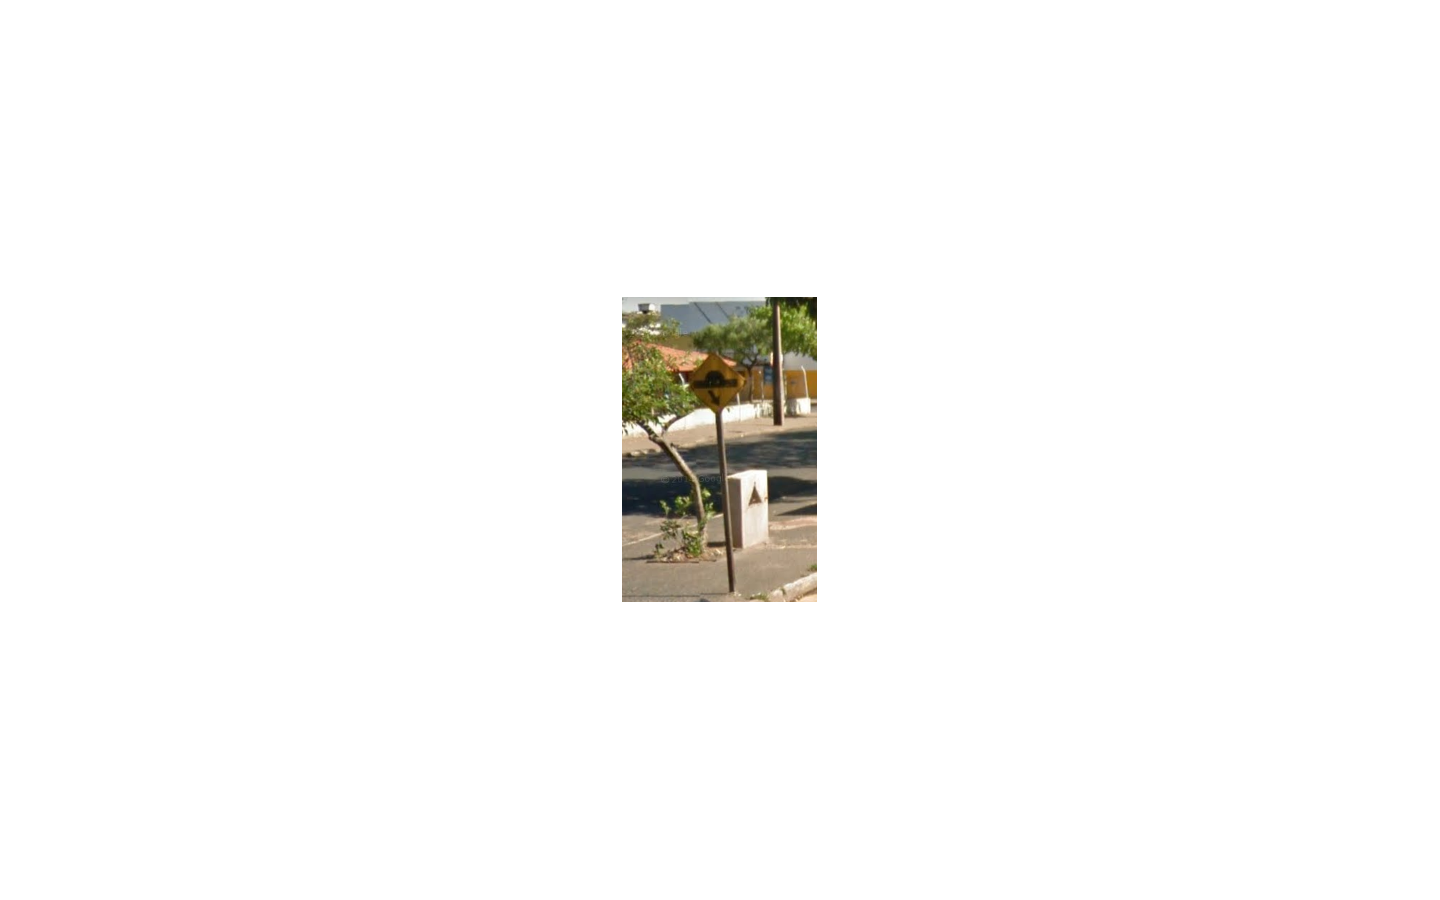lomb: (688, 348, 747, 413)
